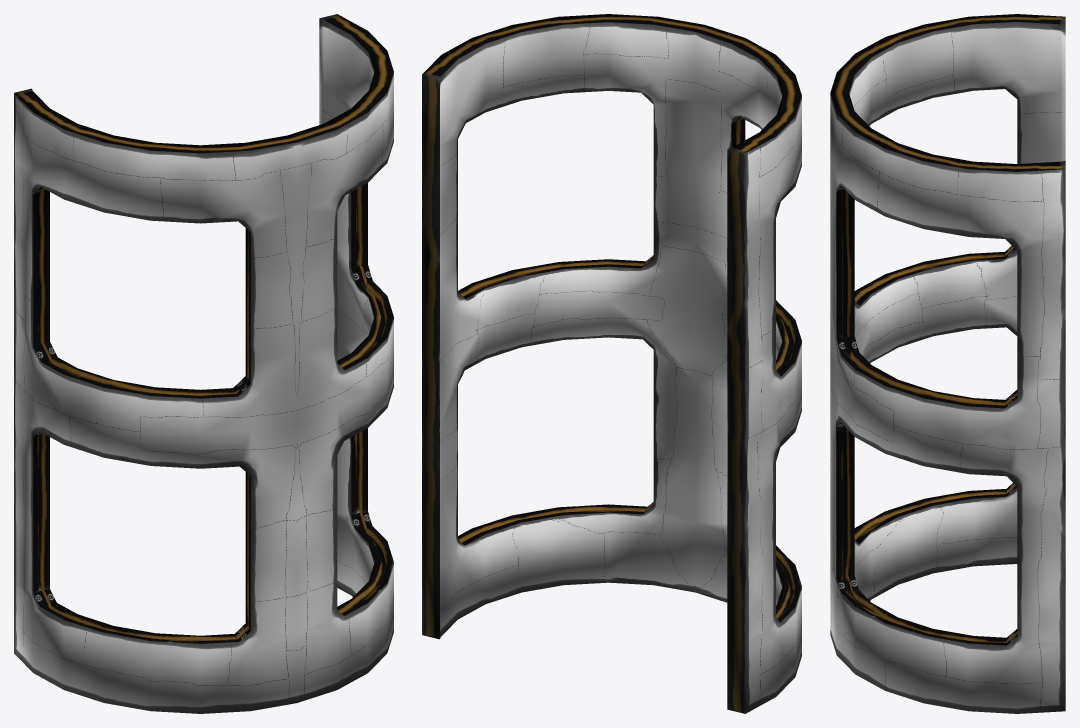
Rendered from windowtunnel2.dae.
3 renders of one model, left to right at view 1: azimuth 30°, elevation 25°; view 2: azimuth 150°, elevation 25°; view 3: azimuth 270°, elevation 25°, orthographic. The views are drawn at different scales.
Parts seen in each view (by area): view 1: Frame; view 2: Frame; view 3: Frame.
Part boxes in pixels (x1=…): Frame: x1=14, y1=14, x2=393, y2=713; Frame: x1=422, y1=14, x2=801, y2=713; Frame: x1=830, y1=14, x2=1065, y2=713.
Size of the model in its own units: 2.5 by 1.57 by 4.
1 material, 1 textured.
